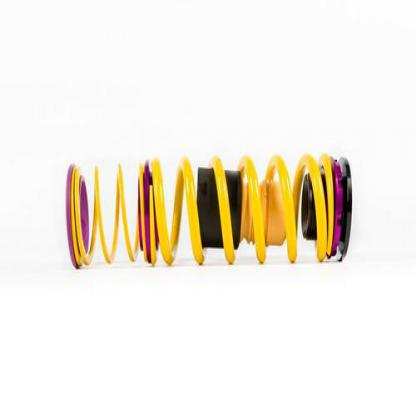FOD: (68, 152, 343, 270)
